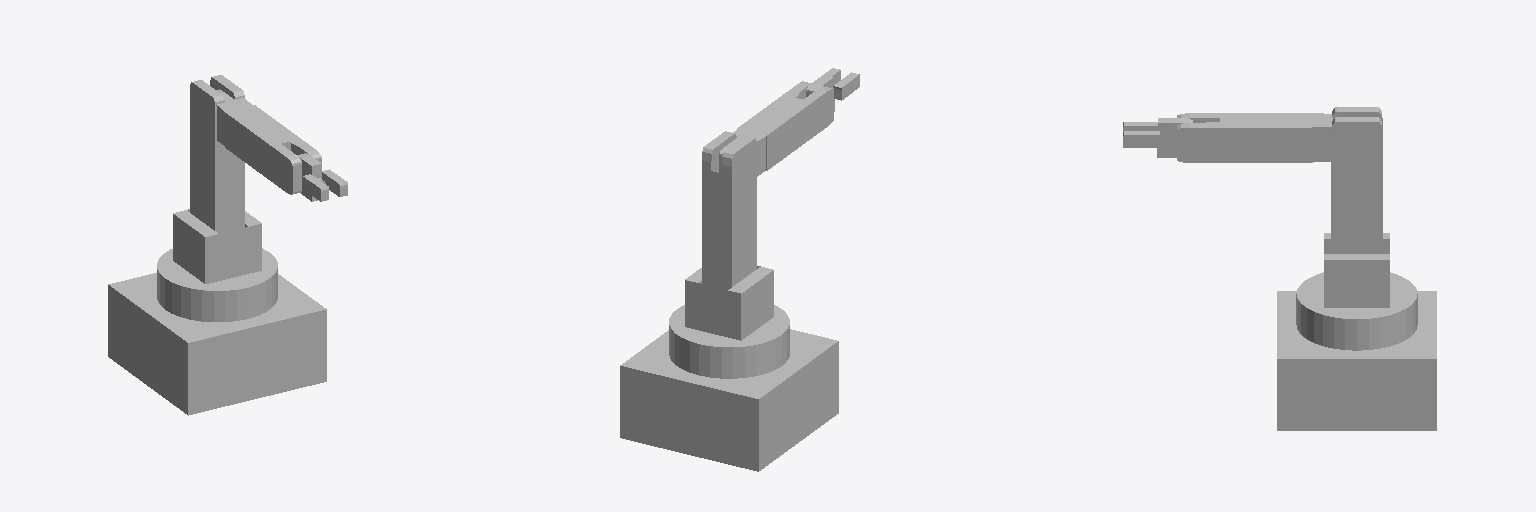
File: brazo_skin.obj
The picture shows the model from 3 angles: view 1: azimuth 30°, elevation 25°; view 2: azimuth 150°, elevation 25°; view 3: azimuth 270°, elevation 25°; orthographic projection.
Visible parts, largest first — view 1: Cube, Cube.002, Cilindro, Cube.003, Cube.001, Cube.005; view 2: Cube, Cube.002, Cilindro, Cube.003, Cube.001, Cube.005; view 3: Cube, Cube.003, Cube.002, Cilindro, Cube.001, Cube.005, Cube.004.
Boxes of the visible parts, x1,y1,x2,y2 form: Cube: [108, 273, 326, 415]; Cube.002: [190, 75, 244, 233]; Cilindro: [157, 248, 277, 321]; Cube.003: [216, 89, 321, 194]; Cube.001: [173, 209, 261, 283]; Cube.005: [303, 169, 347, 201]; Cube: [620, 329, 838, 471]; Cube.002: [702, 131, 756, 289]; Cilindro: [669, 305, 789, 378]; Cube.003: [719, 81, 833, 176]; Cube.001: [685, 266, 773, 340]; Cube.005: [824, 68, 859, 100]; Cube: [1277, 291, 1436, 430]; Cube.003: [1177, 113, 1333, 162]; Cube.002: [1331, 107, 1382, 253]; Cilindro: [1296, 272, 1417, 350]; Cube.001: [1324, 233, 1389, 307]; Cube.005: [1123, 122, 1159, 147]; Cube.004: [1157, 118, 1192, 157].
Size of the model in its own units: 2 by 3.91 by 3.93.